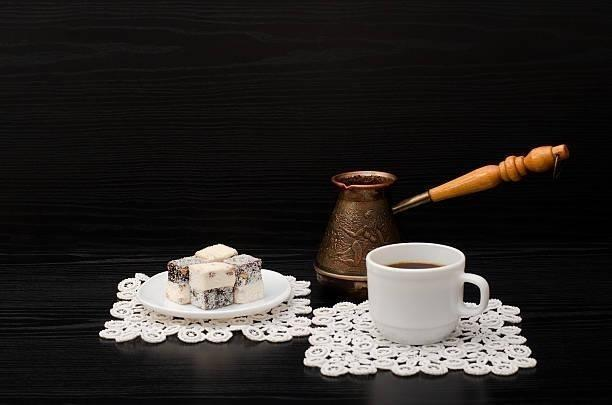cup-handle: (365, 241, 491, 345)
